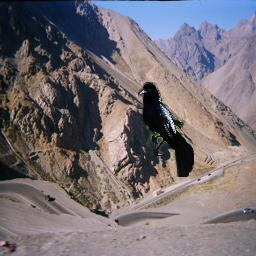Crow: (138, 82, 194, 177)
